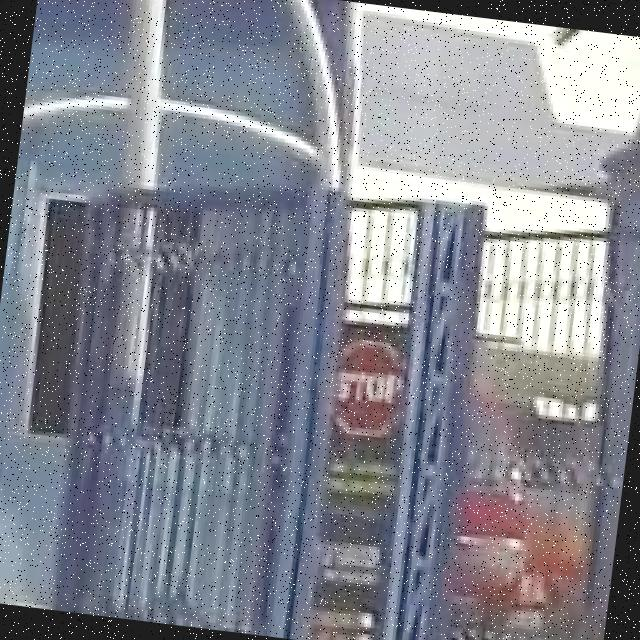Stop: (328, 336, 402, 436)
